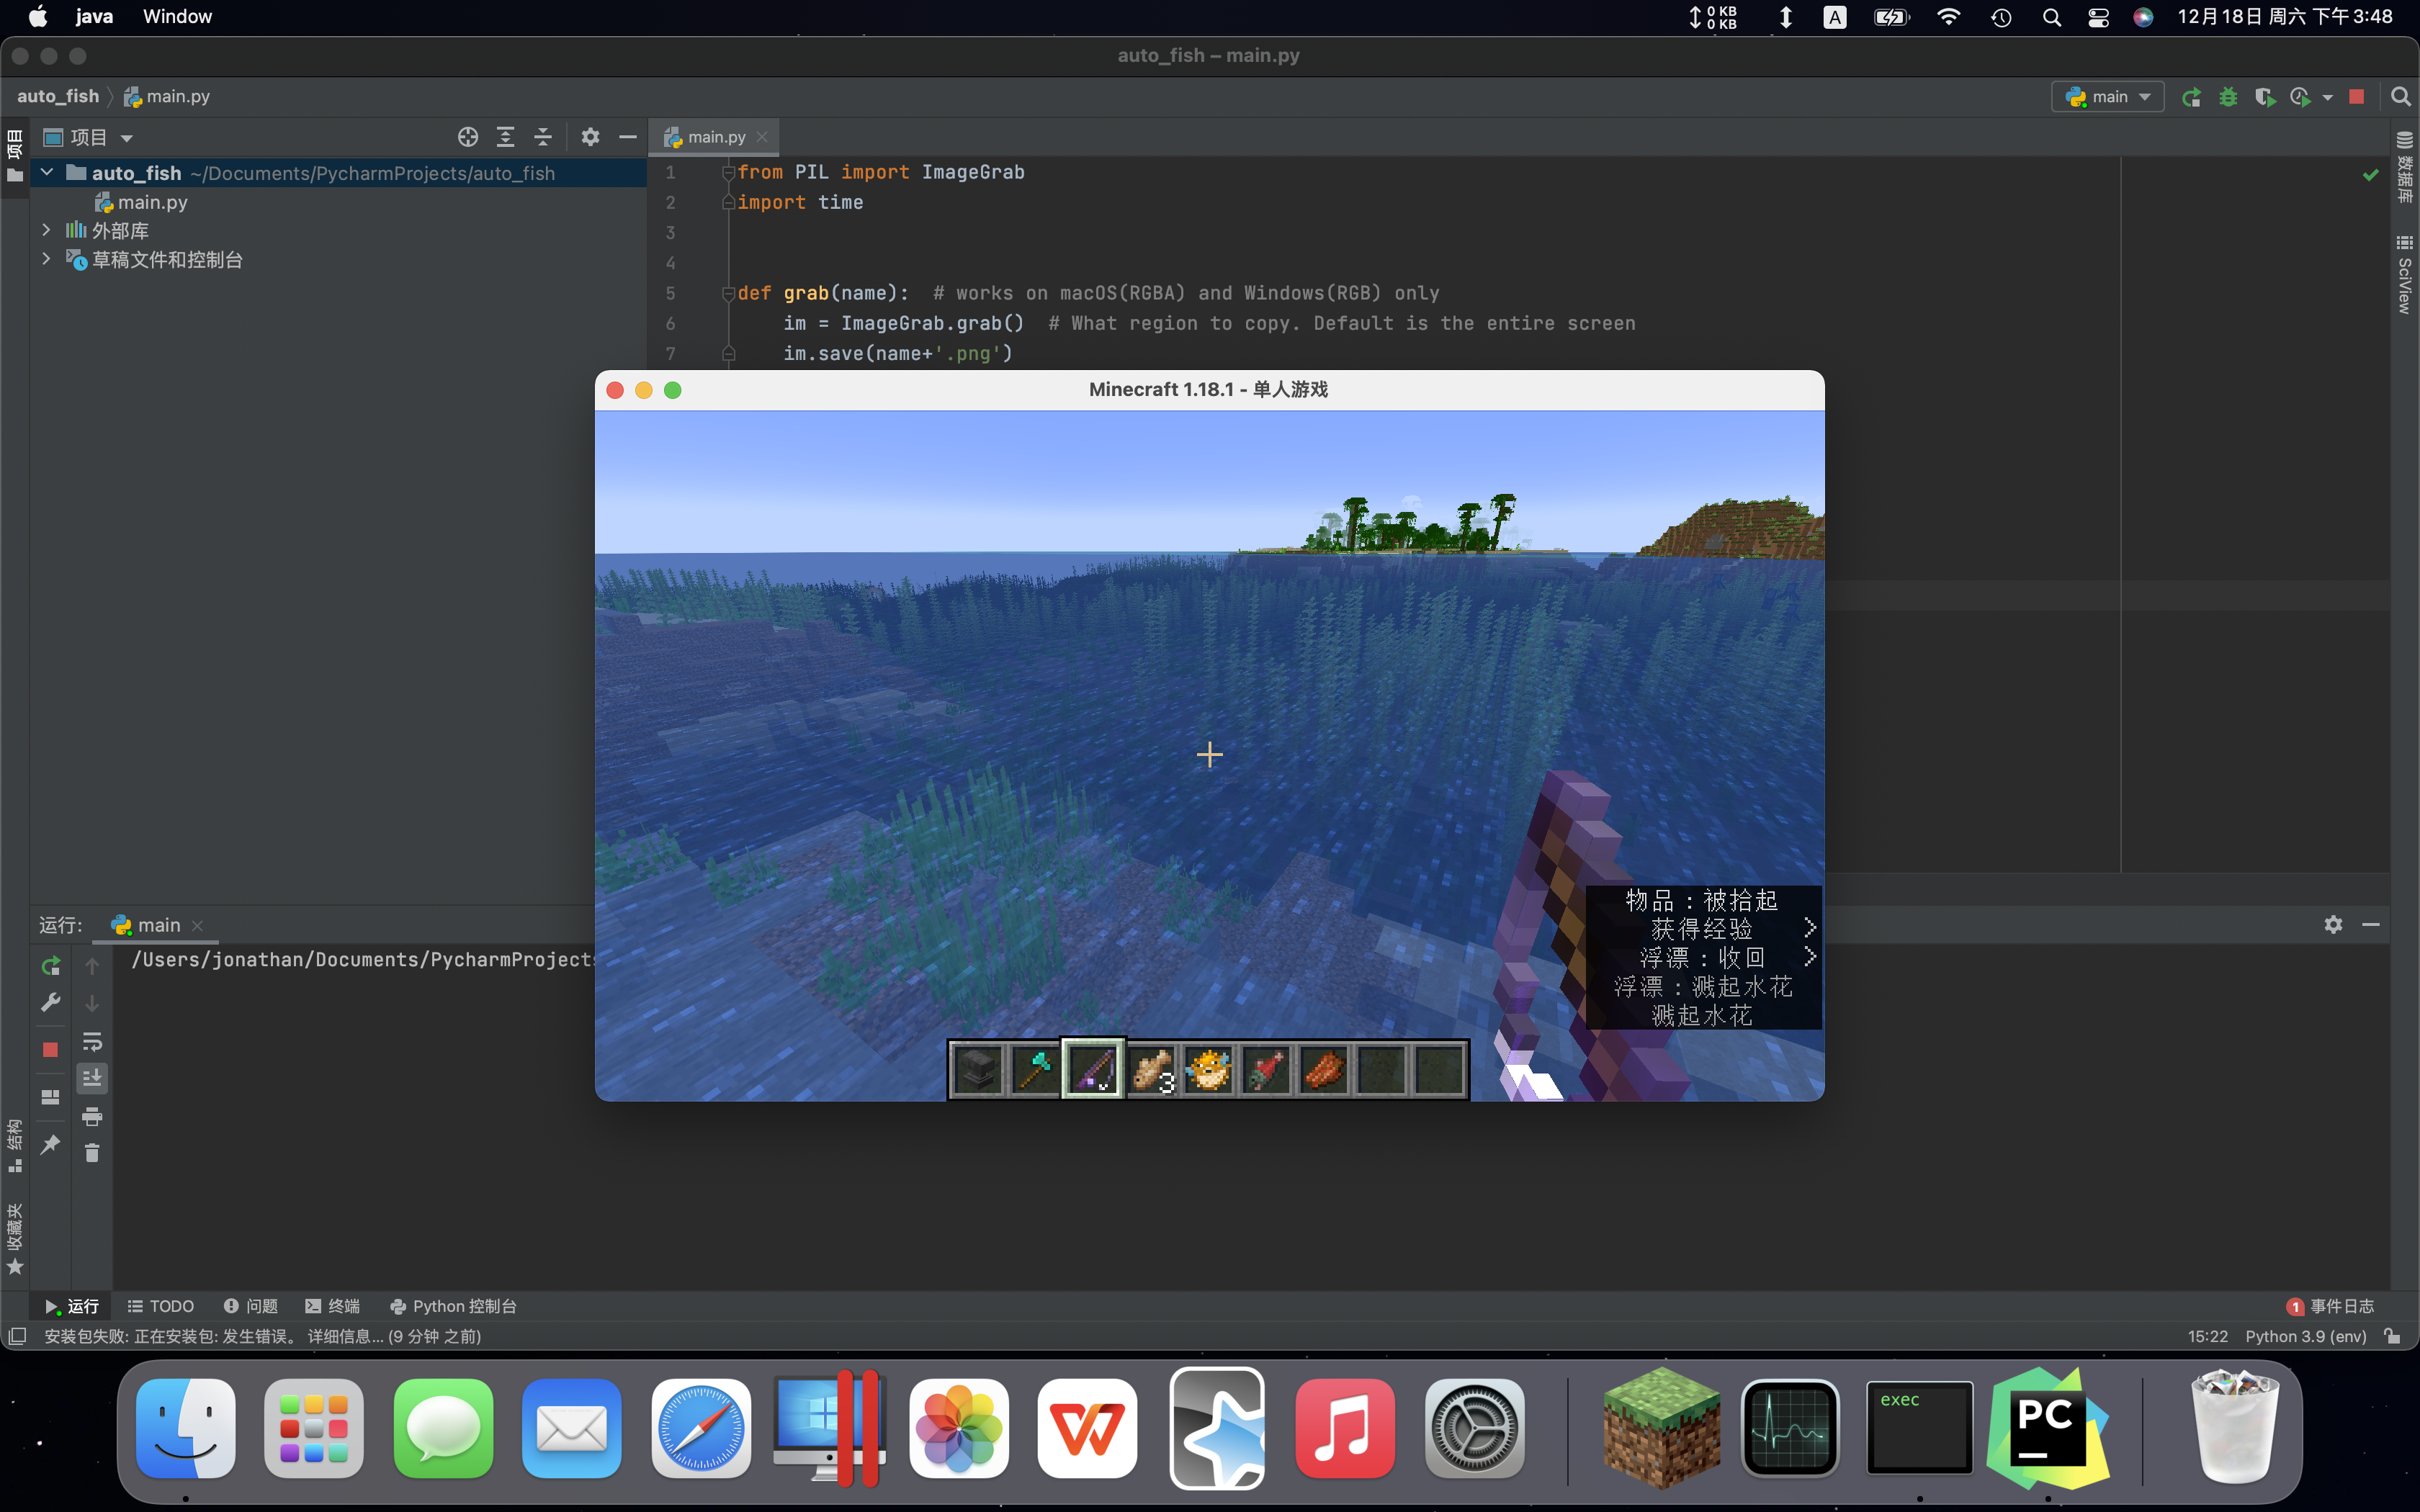inf: (1585, 887, 1821, 1031)
